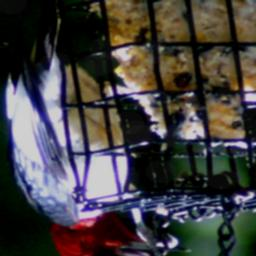Woodpecker: (0, 0, 196, 256)
